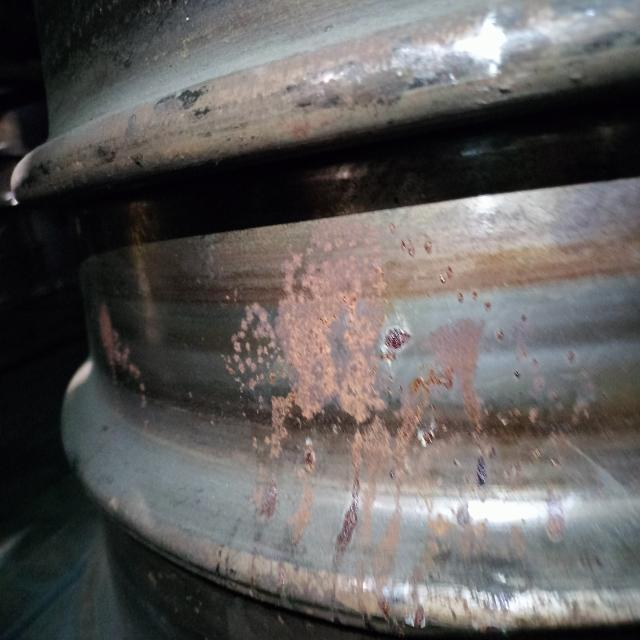Blue hole: (384, 324, 410, 359)
Peeling: (332, 496, 363, 603)
